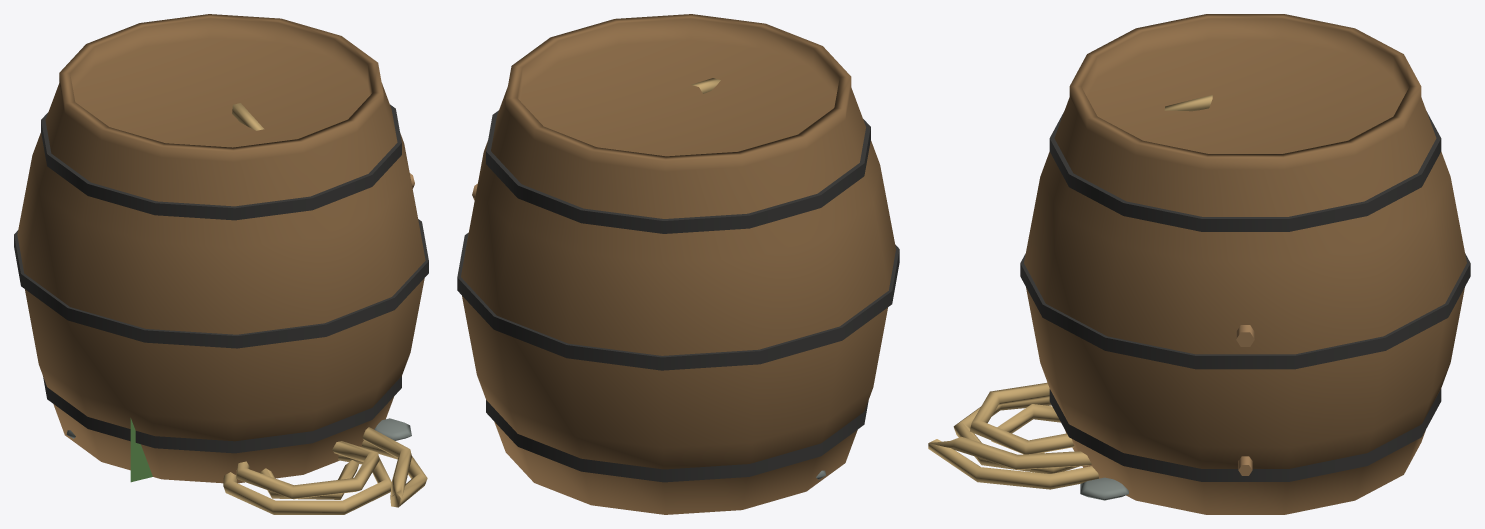
Rendered from barrel-rope.glb.
The picture shows the model from 3 angles, left to right: view 1: azimuth 30°, elevation 25°; view 2: azimuth 150°, elevation 25°; view 3: azimuth 270°, elevation 25°; orthographic projection. The views are drawn at different scales.
Parts seen in each view (by area): view 1: Mesh_BarrelBody, Mesh_RopeCoil, Mesh_HoopMid, Mesh_HoopTop, Mesh_HoopBot, Mesh_GrassTuftA, Mesh_StoneB; view 2: Mesh_BarrelBody, Mesh_HoopMid, Mesh_HoopTop, Mesh_HoopBot; view 3: Mesh_BarrelBody, Mesh_RopeCoil, Mesh_HoopMid, Mesh_HoopTop, Mesh_HoopBot, Mesh_StoneB.
Part boxes in pixels (x1,y1,x2,y2): Mesh_BarrelBody: [17, 14, 425, 483]; Mesh_RopeCoil: [223, 103, 427, 514]; Mesh_HoopMid: [14, 219, 428, 348]; Mesh_HoopTop: [41, 104, 401, 220]; Mesh_HoopBot: [43, 376, 401, 453]; Mesh_GrassTuftA: [130, 418, 152, 482]; Mesh_StoneB: [374, 418, 411, 440]; Mesh_BarrelBody: [461, 14, 895, 514]; Mesh_HoopMid: [457, 232, 899, 370]; Mesh_HoopTop: [486, 110, 870, 233]; Mesh_HoopBot: [486, 400, 868, 482]; Mesh_BarrelBody: [1024, 14, 1466, 514]; Mesh_RopeCoil: [928, 95, 1212, 489]; Mesh_HoopMid: [1020, 253, 1470, 369]; Mesh_HoopTop: [1049, 111, 1441, 231]; Mesh_HoopBot: [1049, 389, 1441, 481]; Mesh_StoneB: [1080, 477, 1128, 500].
Bounding box in the file's own units: 0.7744 × 0.67 × 0.9248.
Materials: 1 (1 with a texture image).
